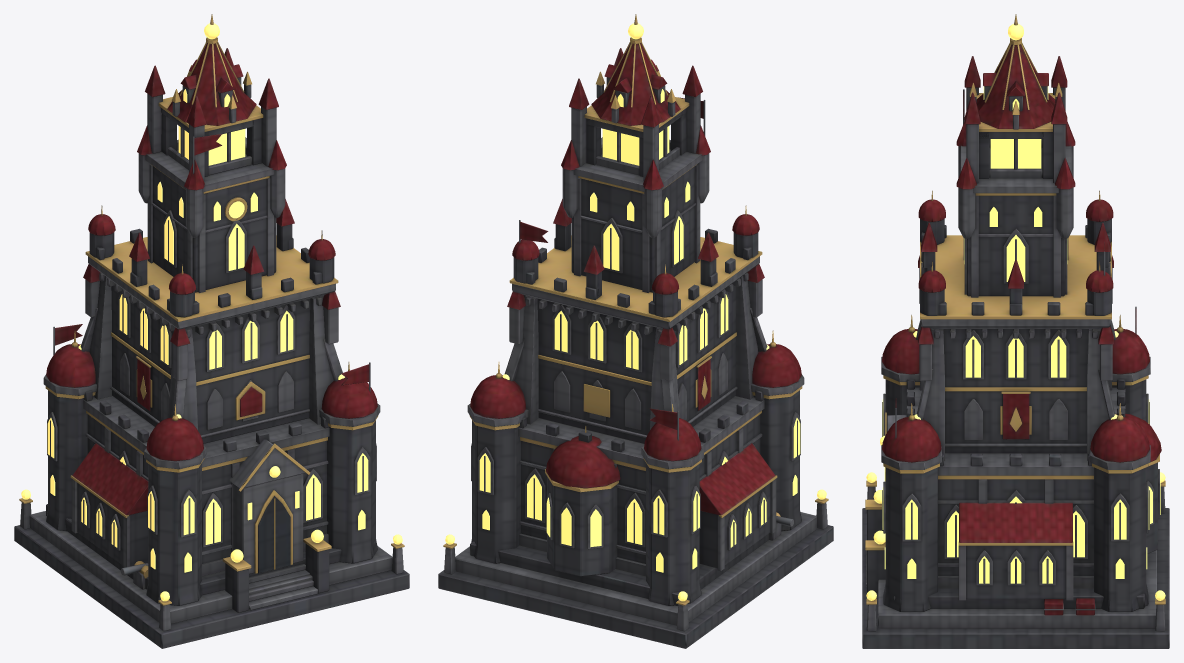
Rendered from 重製_帝國巨塔.glb.
The picture shows the model from 3 angles, left to right: view 1: azimuth 30°, elevation 25°; view 2: azimuth 150°, elevation 25°; view 3: azimuth 270°, elevation 25°; orthographic projection. The views are drawn at different scales.
Parts seen in each view (by area): view 1: Emp_tower_Mesh; view 2: Emp_tower_Mesh; view 3: Emp_tower_Mesh.
Part boxes in pixels (x1,y1,x2,y2): Emp_tower_Mesh: (14,14,409,648); Emp_tower_Mesh: (438,14,833,648); Emp_tower_Mesh: (862,14,1169,648).
Size of the model in its own units: 9.44 by 20 by 9.74.
Materials: 2 (1 with a texture image).
